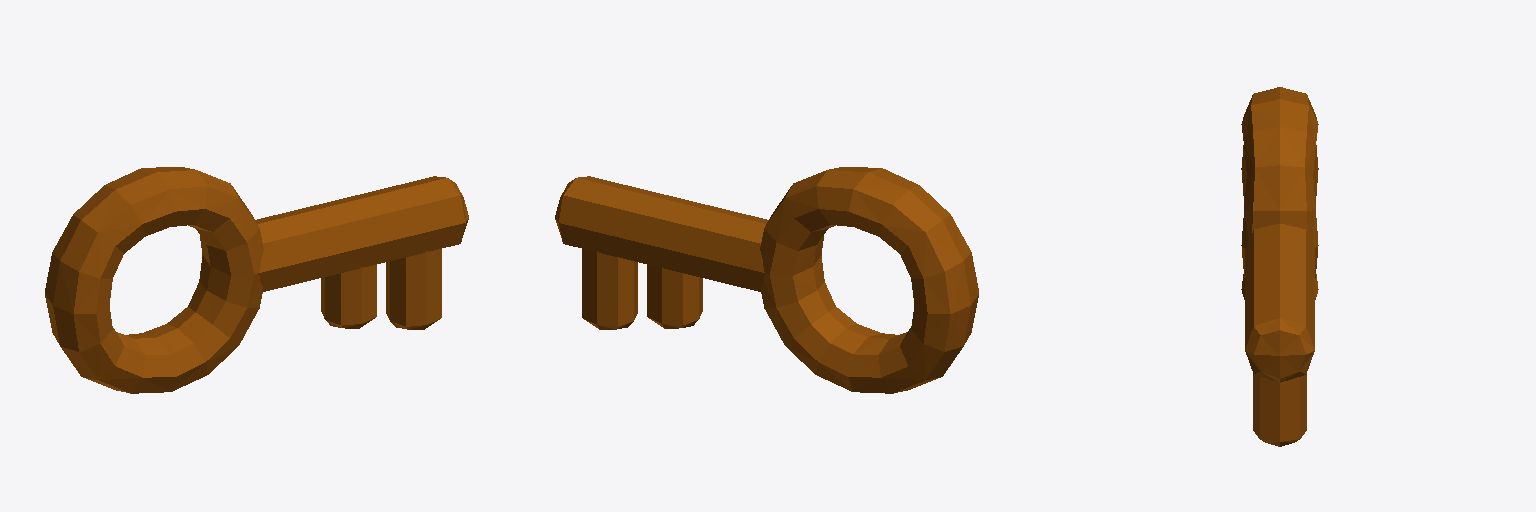
The model's file is Key.obj.
3 renders of one model, left to right at view 1: azimuth 30°, elevation 25°; view 2: azimuth 150°, elevation 25°; view 3: azimuth 270°, elevation 25°, orthographic.
Parts seen in each view (by area): view 1: Key_Cube.268; view 2: Key_Cube.268; view 3: Key_Cube.268.
Boxes of the visible parts, box(x1,y1,x2,y2) form: Key_Cube.268: box(45, 167, 468, 393); Key_Cube.268: box(555, 167, 978, 393); Key_Cube.268: box(1241, 87, 1318, 446).
Size of the model in its own units: 1.93 by 0.9819 by 0.3177.